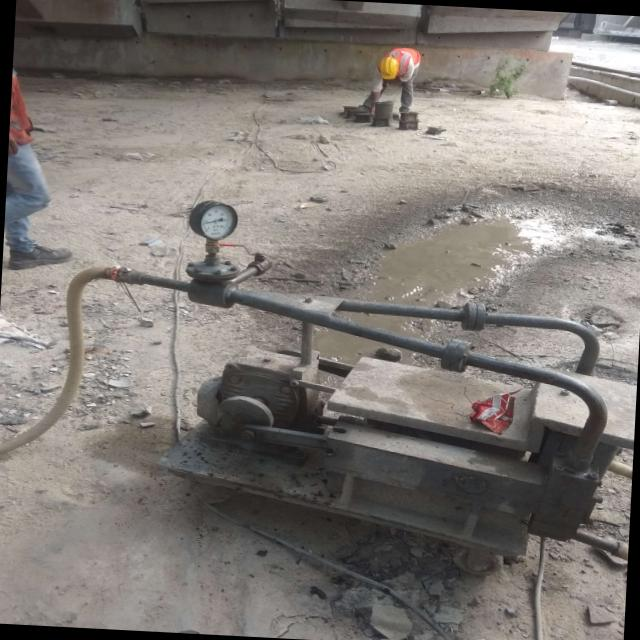cement: (0, 77, 640, 439), (0, 282, 399, 640), (237, 499, 538, 640), (175, 295, 299, 428), (342, 314, 582, 371), (542, 542, 627, 640), (590, 472, 632, 543)
